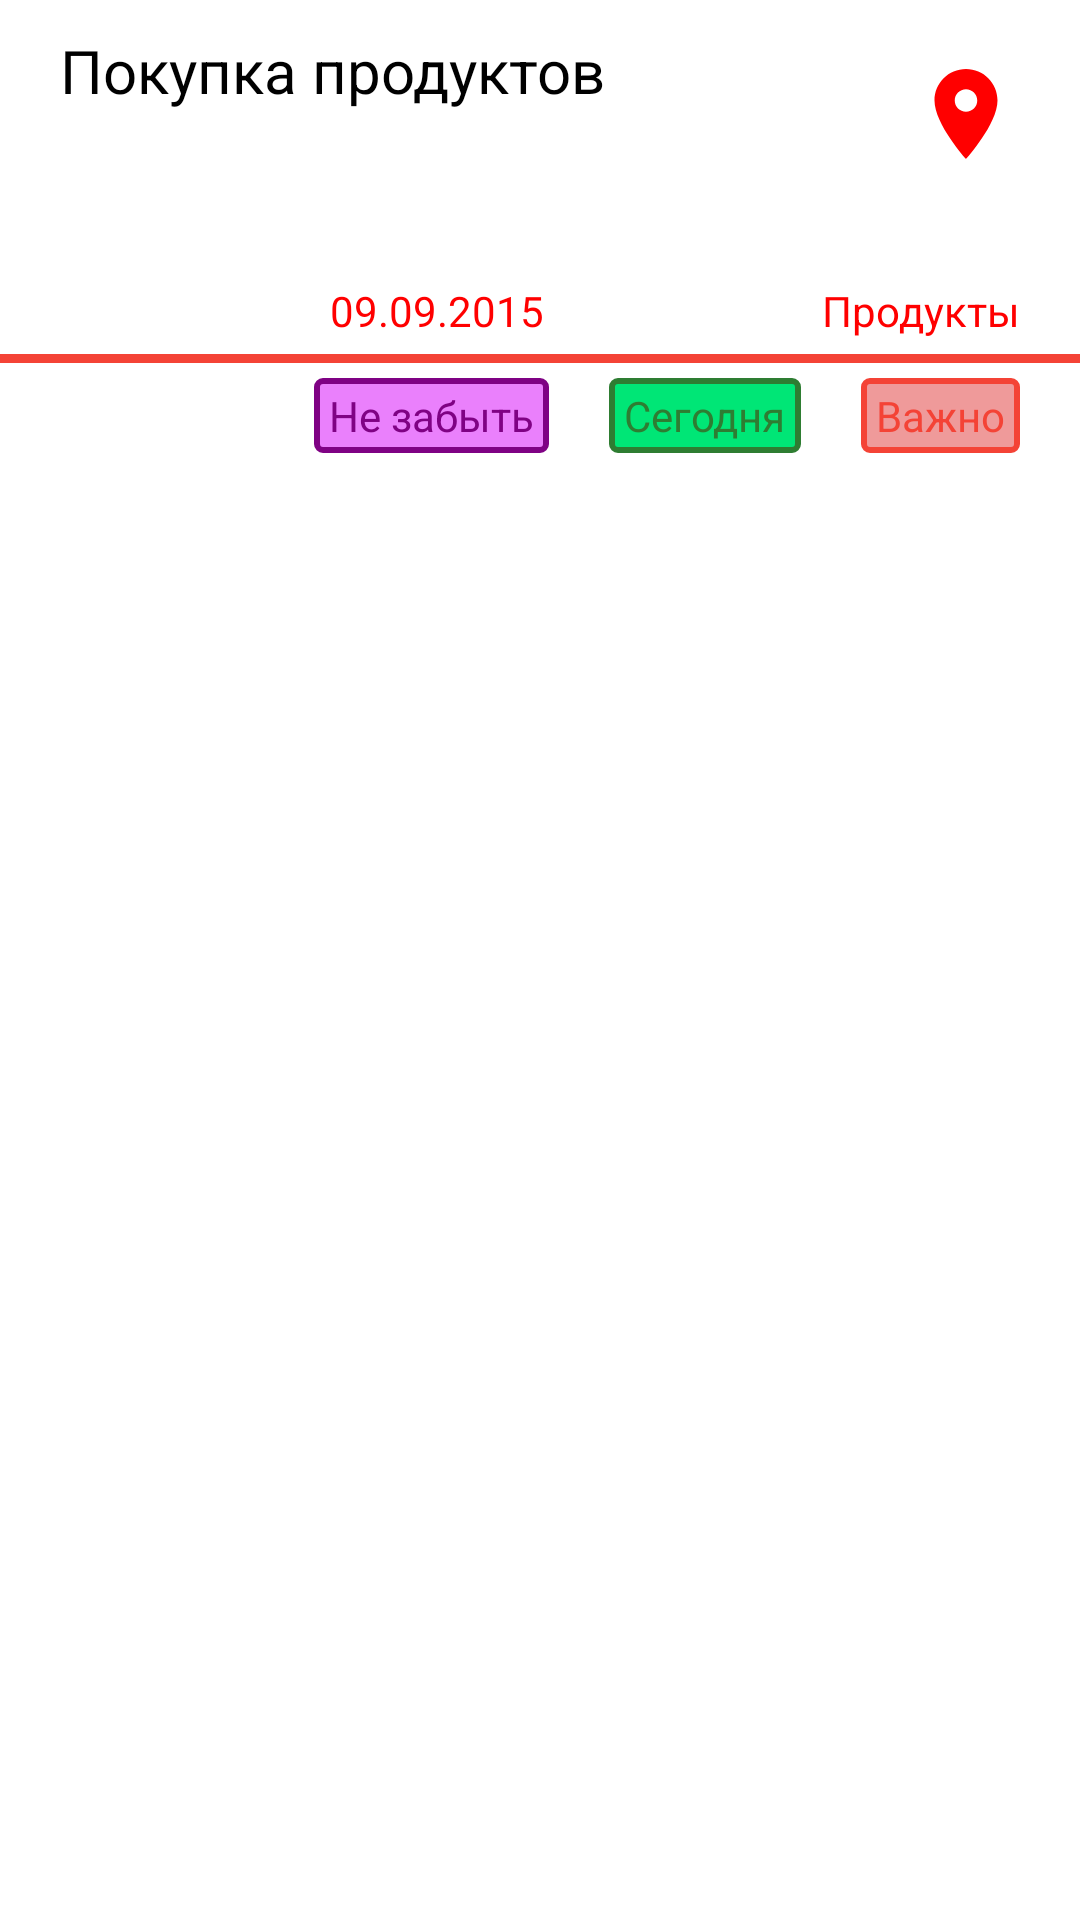

Locate icon controls on the screen. Image size 1080w x 1920h, boxes as (x1, y1, x2, y2).
location on: (934, 69, 998, 159)
